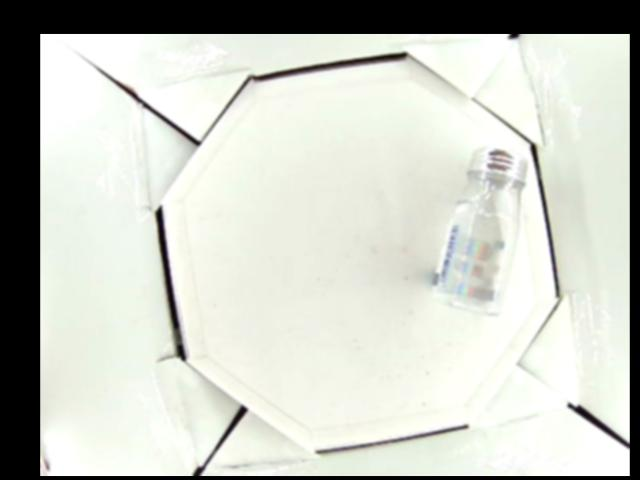Bottle: (429, 147, 529, 316)
